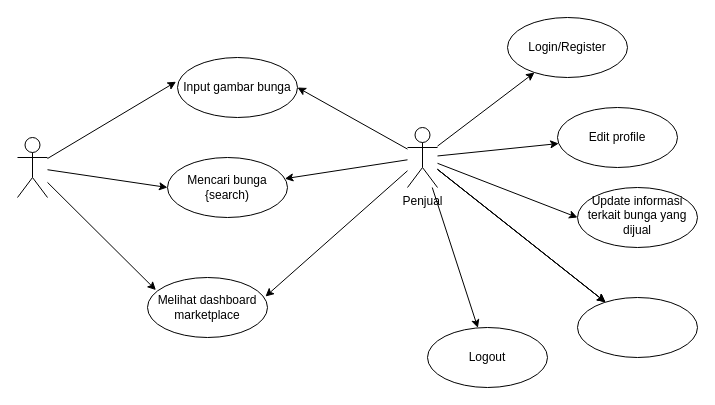
The diagram is 715 pixels wide and 405 high, and some of its shapes have lost their labels. The shapes that lost their labels are listed below. From the top down, each one's box as (x1, y1, x2, y2) in pixels, then its label:
(16, 136, 48, 198): User
(576, 296, 698, 358): Input informasi penjualan bunga
